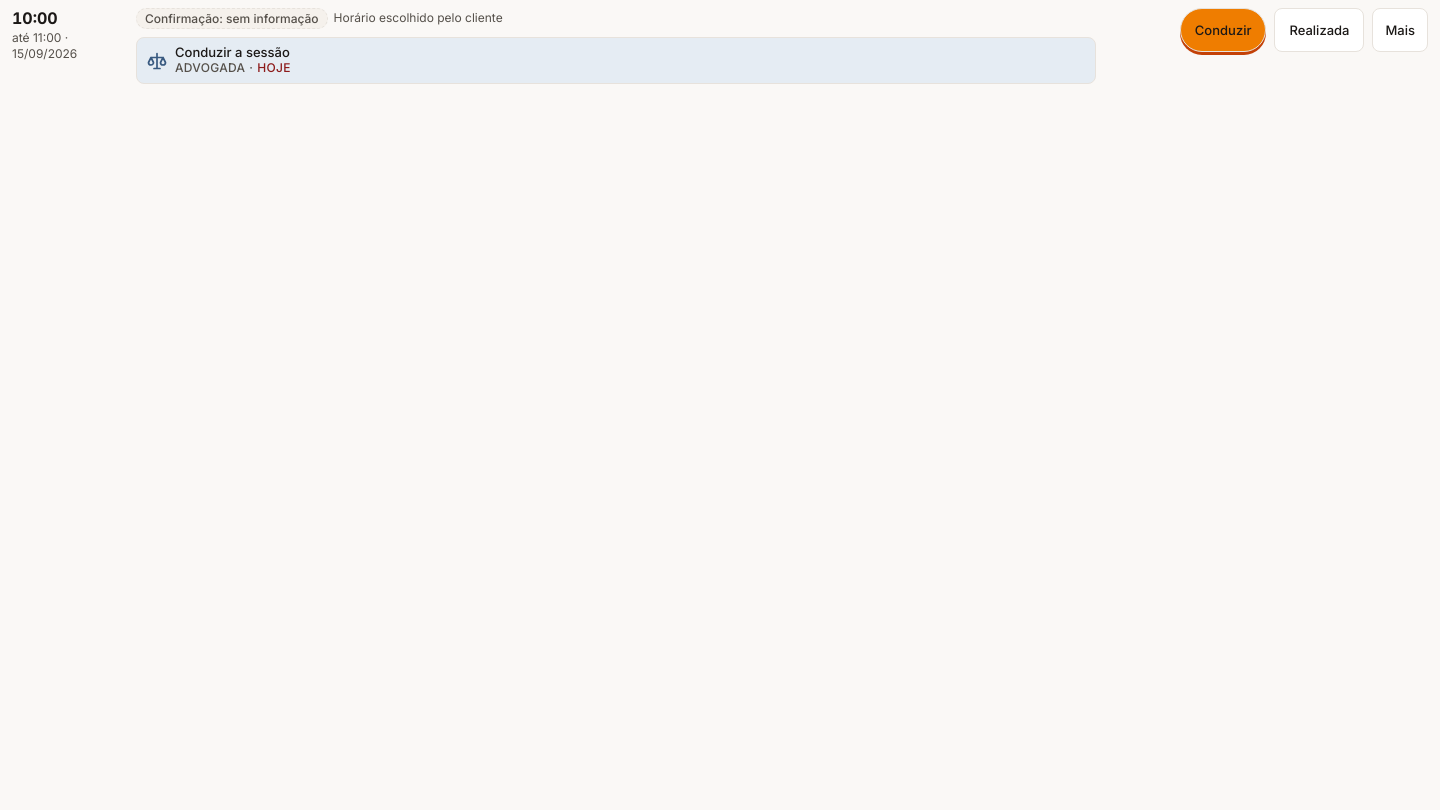
LinhaAgendamento — 'Realizada' confirma antes de agir (15/09) › 'Ainda não' cancela sem tocar no status
Click the button "Realizada". click: (1320, 30)
box: [1274,8,1364,52]
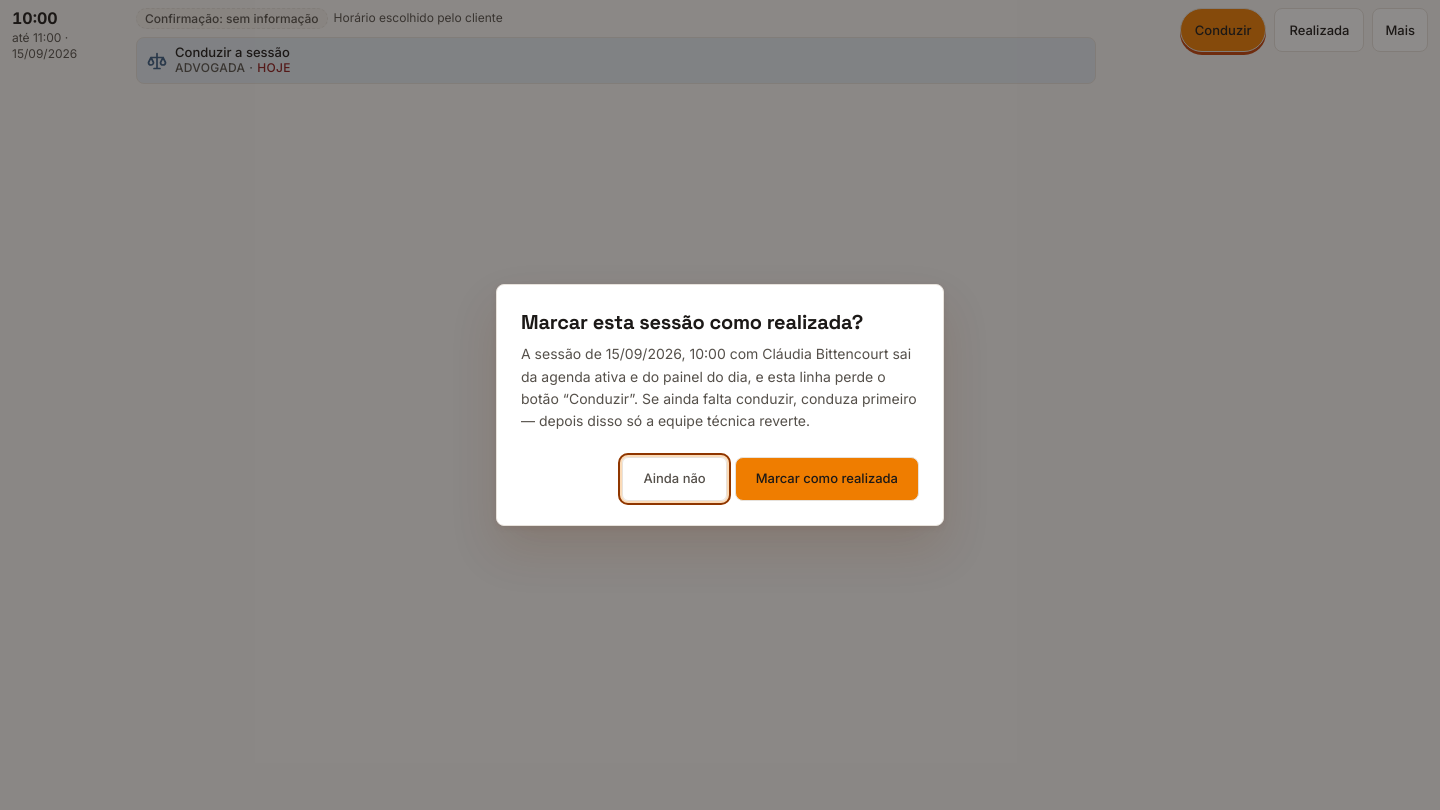
Click the button "Ainda não". click: (675, 479)
box: [622,457,727,501]
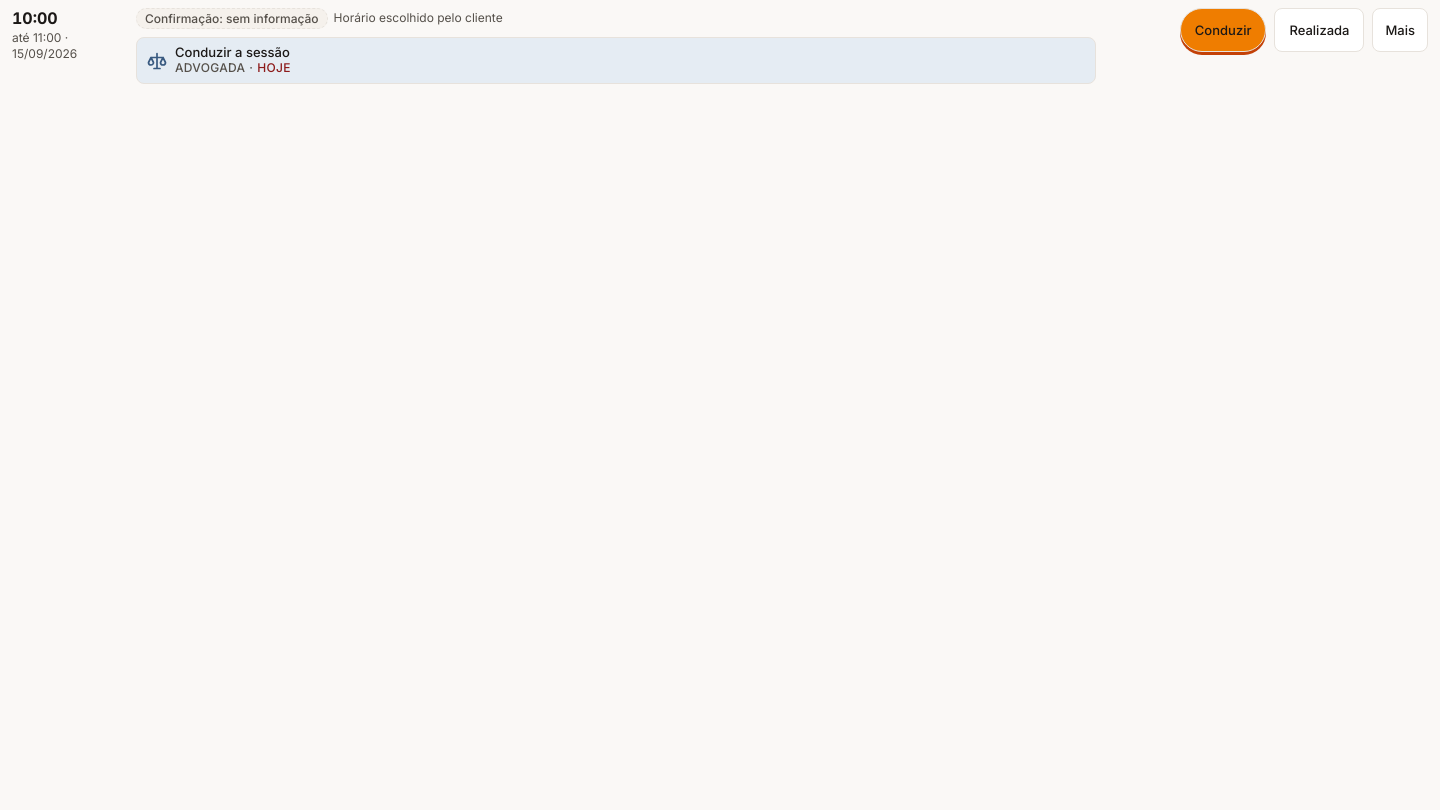
Expected: the dialog is gone
